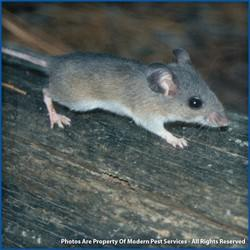rat: (0, 48, 229, 149)
